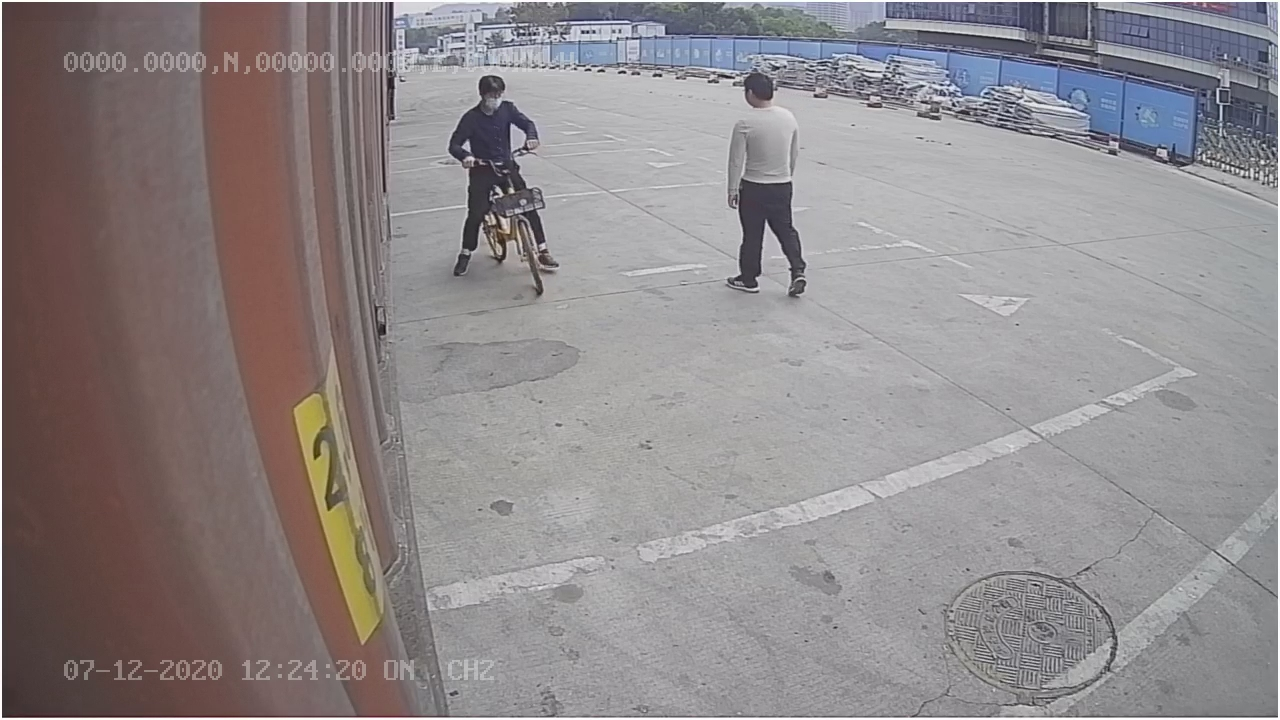person: (720, 69, 814, 302)
